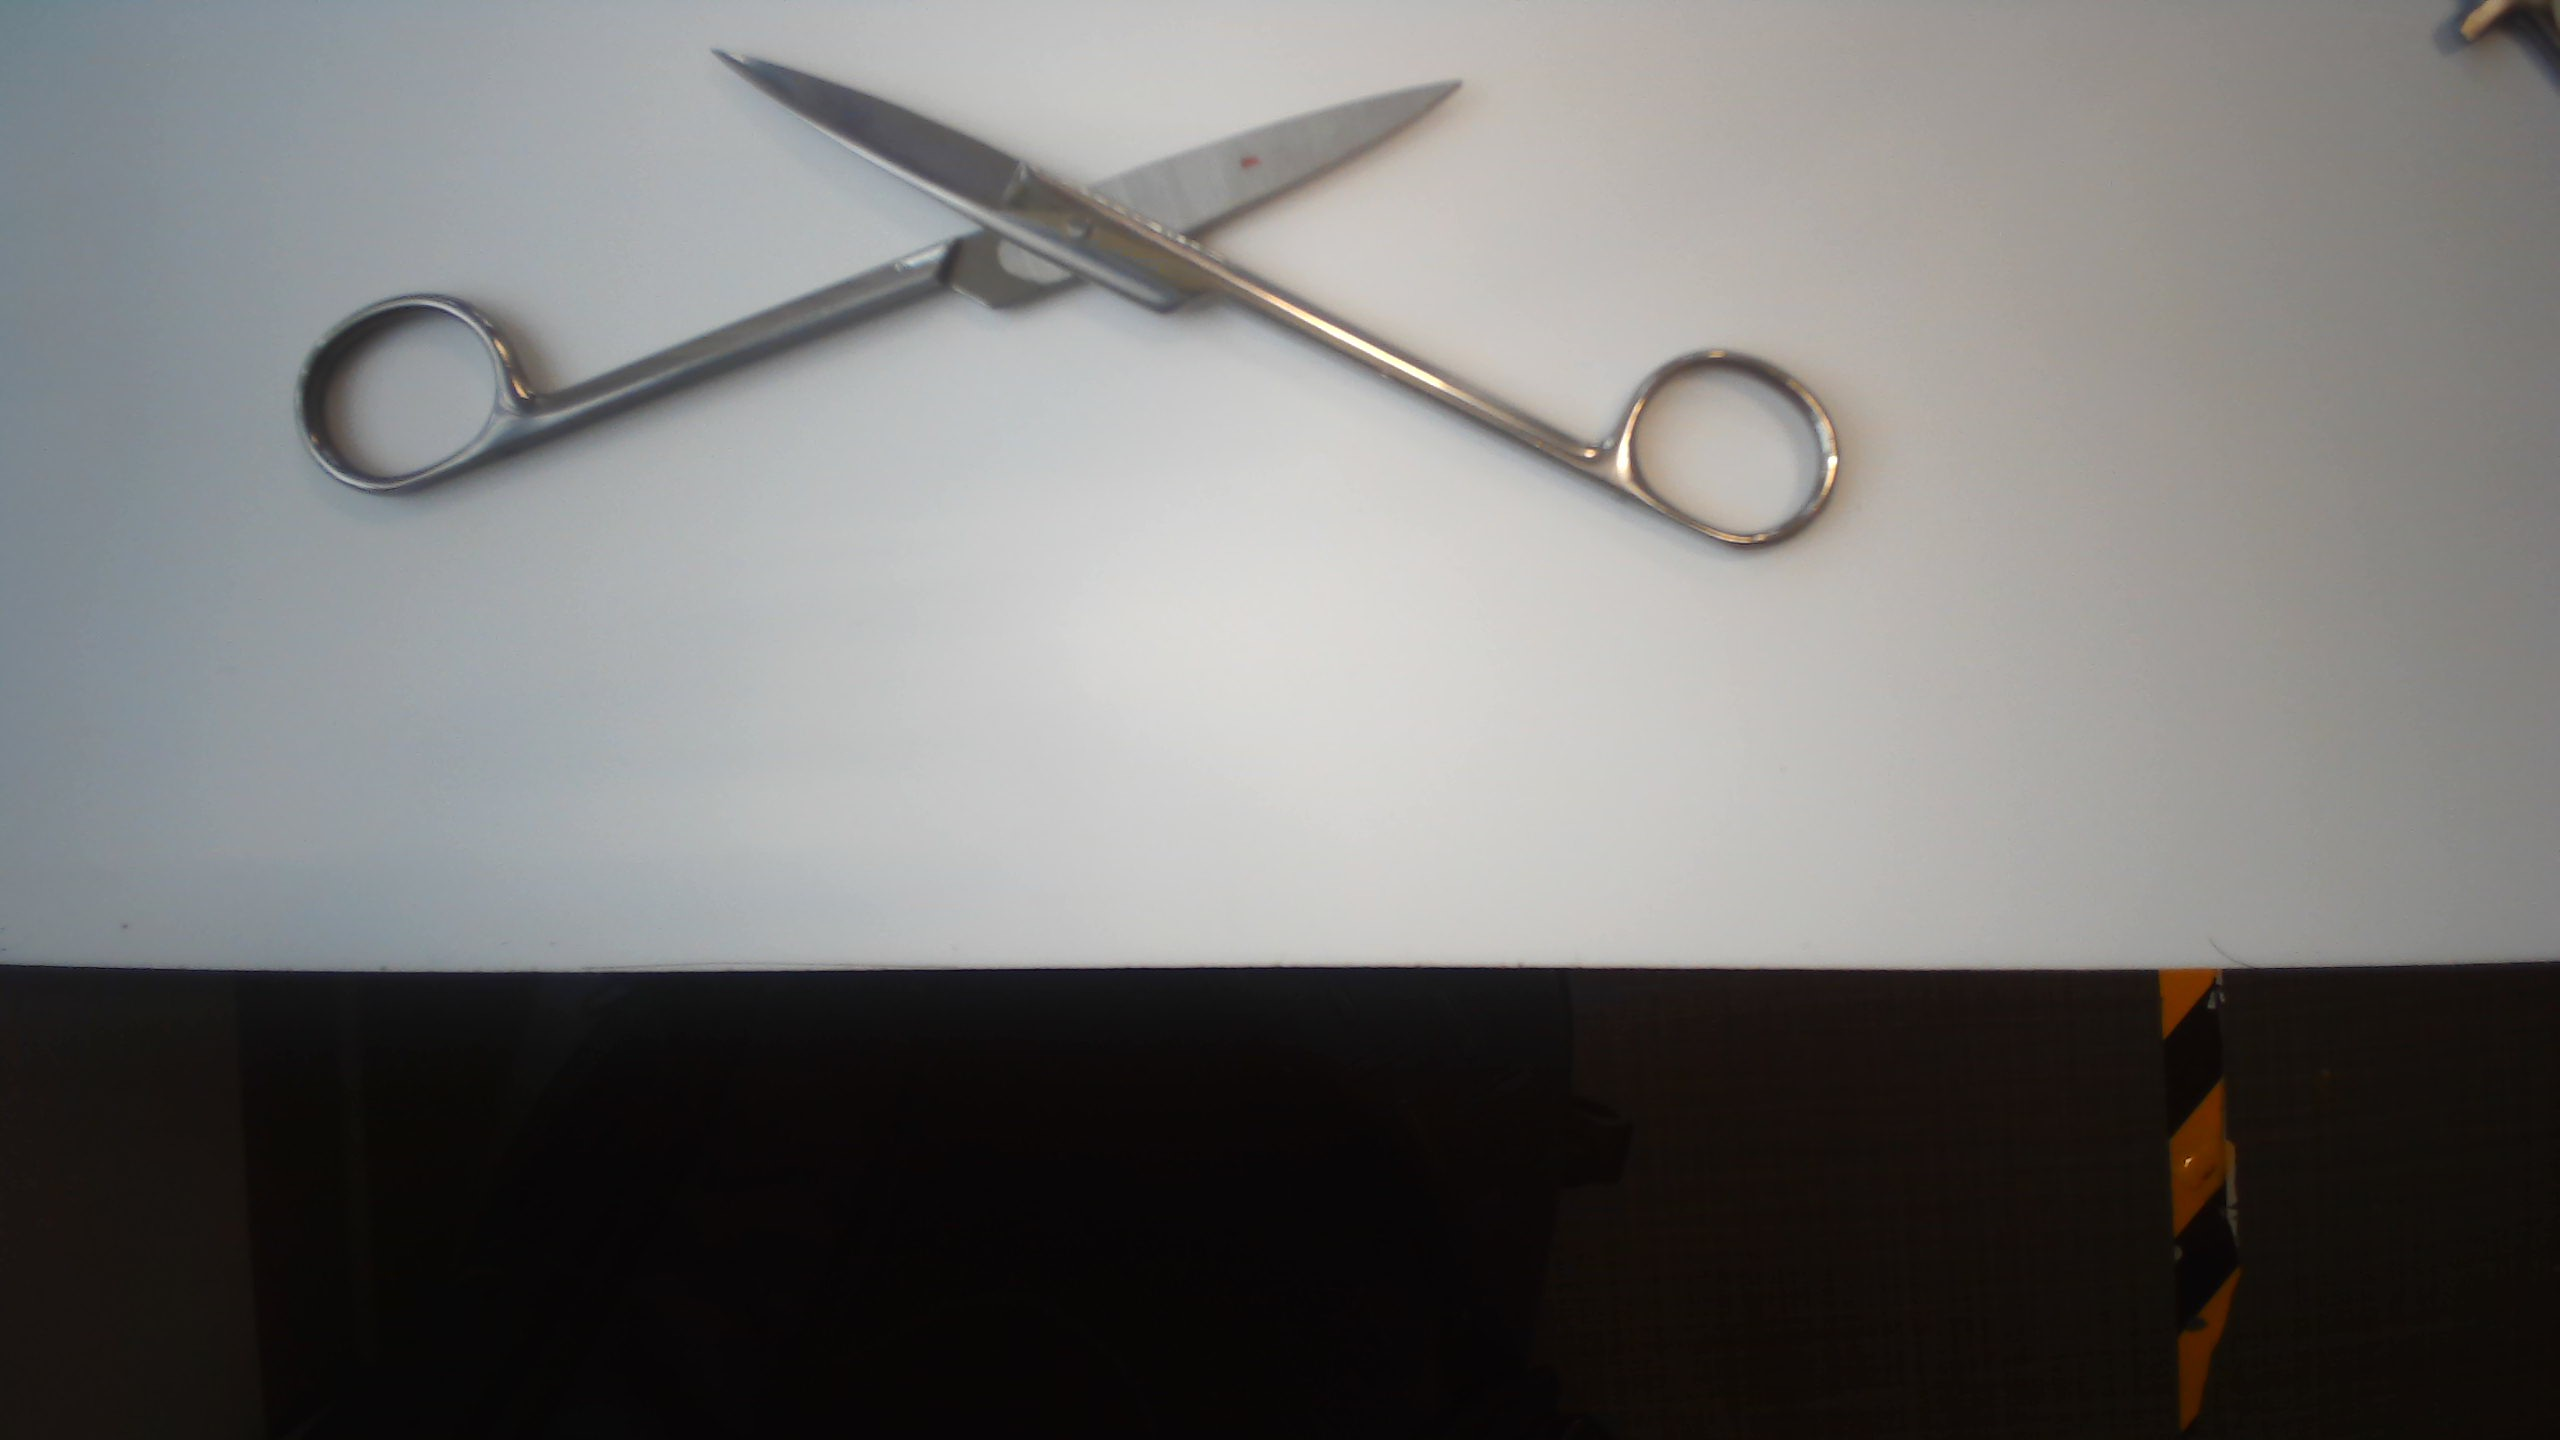Stain: (1225, 151, 1284, 178)
